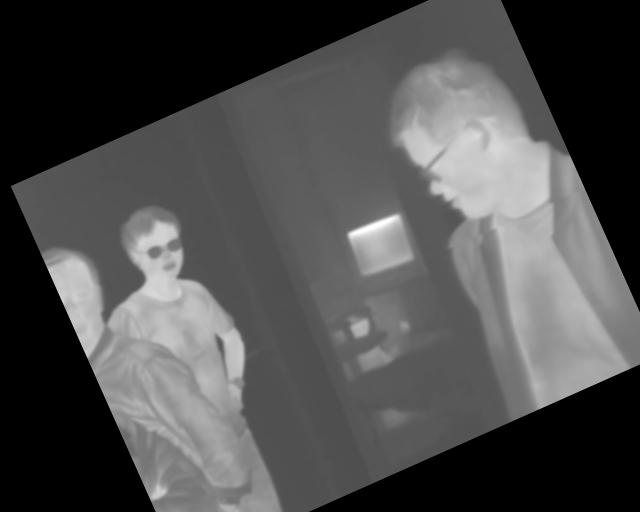face: (112, 196, 198, 291)
